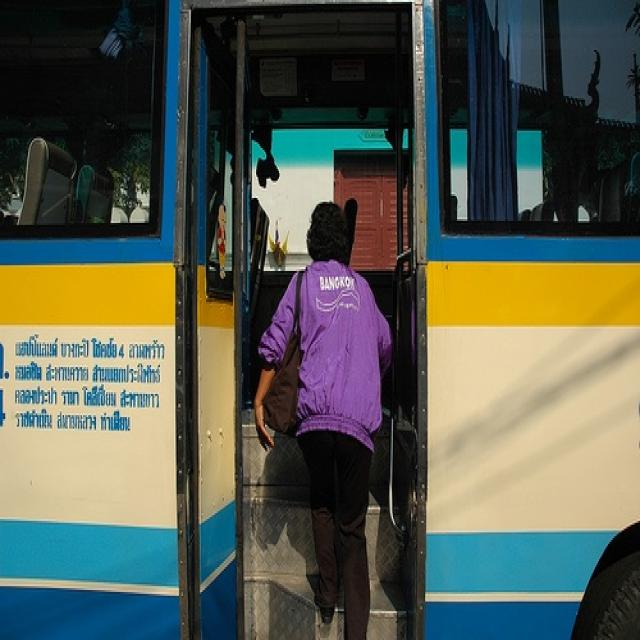bus: (1, 1, 640, 639)
person: (253, 201, 393, 639)
